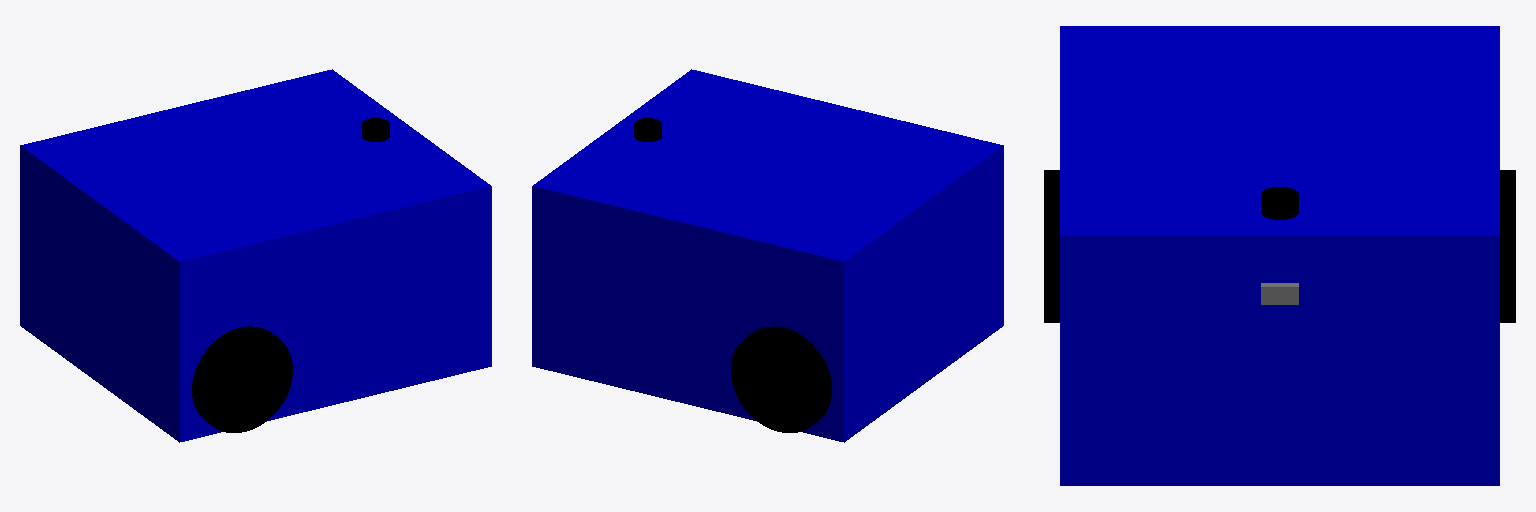
URDF robot description (ika):
<?xml version="1.0" ?>
<robot name="ika">

  <!-- Materials -->
  <material name="blue"><color rgba="0 0 0.8 1"/></material>
  <material name="black"><color rgba="0 0 0 1"/></material>
  <material name="grey"><color rgba="0.5 0.5 0.5 1"/></material>

  <link name="base_footprint"/>
  <joint name="base_joint" type="fixed">
    <parent link="base_footprint"/><child link="base_link"/>
    <origin xyz="0 0 0.36" rpy="0 0 0"/>
  </joint>

  <link name="base_link">
    <visual><geometry><box size="1.3 1.15 0.72"/></geometry><material name="blue"/></visual>
    <collision><geometry><box size="1.3 1.15 0.72"/></geometry></collision>
    <inertial><mass value="50.0"/><inertia ixx="10.0" ixy="0" ixz="0" iyy="10.0" iyz="0" izz="15.0"/></inertial>
  </link>

  <!-- Wheels -->
  <link name="rl_wheel">
    <visual><origin rpy="1.5707 0 0"/><geometry><cylinder radius="0.2" length="0.08"/></geometry><material name="black"/></visual>
    <collision><origin rpy="1.5707 0 0"/><geometry><cylinder radius="0.2" length="0.08"/></geometry></collision>
    <inertial><mass value="2.5"/><inertia ixx="0.03" ixy="0" ixz="0" iyy="0.03" iyz="0" izz="0.05"/></inertial>
  </link>
  <joint name="rl_wheel_joint" type="continuous">
    <parent link="base_link"/><child link="rl_wheel"/><origin xyz="-0.4 0.575 -0.16"/><axis xyz="0 1 0"/>
  </joint>

  <link name="rr_wheel">
    <visual><origin rpy="1.5707 0 0"/><geometry><cylinder radius="0.2" length="0.08"/></geometry><material name="black"/></visual>
    <collision><origin rpy="1.5707 0 0"/><geometry><cylinder radius="0.2" length="0.08"/></geometry></collision>
    <inertial><mass value="2.5"/><inertia ixx="0.03" ixy="0" ixz="0" iyy="0.03" iyz="0" izz="0.05"/></inertial>
  </link>
  <joint name="rr_wheel_joint" type="continuous">
    <parent link="base_link"/><child link="rr_wheel"/><origin xyz="-0.4 -0.575 -0.16"/><axis xyz="0 1 0"/>
  </joint>

  <!-- LiDAR & Camera links remain same -->
  <link name="lidar_link">
    <visual><geometry><cylinder radius="0.05" length="0.05"/></geometry><material name="black"/></visual>
  </link>
  <joint name="lidar_joint" type="fixed">
    <parent link="base_link"/><child link="lidar_link"/><origin xyz="0.5 0 0.385"/>
  </joint>

  <link name="camera_link">
    <visual><geometry><box size="0.05 0.1 0.05"/></geometry><material name="grey"/></visual>
  </link>
  <joint name="camera_joint" type="fixed">
    <parent link="base_link"/><child link="camera_link"/><origin xyz="0.65 0 0.2"/>
  </joint>

  <!-- Gazebo Sim (Ignition) Plugins -->
  <gazebo>
    <!-- Diff Drive -->
    <plugin filename="gz-sim-diff-drive-system" name="gz::sim::systems::DiffDrive">
      <left_joint>rl_wheel_joint</left_joint>
      <right_joint>rr_wheel_joint</right_joint>
      <wheel_separation>1.15</wheel_separation>
      <wheel_radius>0.2</wheel_radius>
      <odom_publish_frequency>30</odom_publish_frequency>
      <topic>cmd_vel</topic>
      <odom_topic>odom</odom_topic>
      <tf_topic>tf</tf_topic>
      <frame_id>odom</frame_id>
      <child_frame_id>base_footprint</child_frame_id>
    </plugin>

    <!-- Joint State Publisher for Wheels -->
    <plugin filename="gz-sim-joint-state-publisher-system" name="gz::sim::systems::JointStatePublisher">
      <topic>joint_states</topic>
    </plugin>

    <!-- Sensors System -->
    <plugin filename="gz-sim-sensors-system" name="gz::sim::systems::Sensors">
      <render_engine>ogre2</render_engine>
    </plugin>

    <!-- IMU -->
    <plugin filename="gz-sim-imu-system" name="gz::sim::systems::Imu">
    </plugin>
  </gazebo>

  <!-- Sensor Definitions -->
  <gazebo reference="lidar_link">
    <sensor type="gpu_lidar" name="lidar">
      <pose>0 0 0 0 0 0</pose>
      <visualize>true</visualize>
      <update_rate>10</update_rate>
      <ray>
        <scan><horizontal><samples>360</samples><resolution>1</resolution><min_angle>-3.14159</min_angle><max_angle>3.14159</max_angle></horizontal></scan>
        <range><min>0.3</min><max>30.0</max></range>
      </ray>
      <topic>scan</topic>
      <gz_frame_id>lidar_link</gz_frame_id>
    </sensor>
  </gazebo>

  <gazebo reference="camera_link">
    <sensor type="camera" name="camera">
      <update_rate>30.0</update_rate>
      <topic>camera/image_raw</topic>
      <camera name="head">
        <horizontal_fov>1.396</horizontal_fov>
        <image><width>640</width><height>480</height><format>R8G8B8</format></image>
        <clip><near>0.02</near><far>300</far></clip>
      </camera>
    </sensor>
  </gazebo>

  <gazebo reference="base_link">
    <sensor name="imu_sensor" type="imu">
      <always_on>1</always_on>
      <update_rate>30</update_rate>
      <visualize>true</visualize>
      <topic>imu/data</topic>
    </sensor>
  </gazebo>

</robot>

--- Facts derived from the render (not from the file) ---
The picture shows the robot from 3 angles, left to right: view 1: azimuth 30°, elevation 25°; view 2: azimuth 150°, elevation 25°; view 3: azimuth 270°, elevation 25°; orthographic projection.
Robot: ika — 6 links, 5 joints (2 continuous, 3 fixed); root link base_footprint; default pose: all joints at 0.
Links seen in each view (by area): view 1: base_link, rr_wheel, lidar_link; view 2: base_link, rl_wheel, lidar_link; view 3: base_link, rl_wheel, rr_wheel, lidar_link, camera_link.
Link boxes in pixels (<box>): base_link: <box>20,69,491,442</box>; rr_wheel: <box>192,326,292,432</box>; lidar_link: <box>362,118,389,141</box>; base_link: <box>532,69,1003,442</box>; rl_wheel: <box>731,326,831,432</box>; lidar_link: <box>634,118,661,141</box>; base_link: <box>1060,26,1499,485</box>; rl_wheel: <box>1500,170,1515,322</box>; rr_wheel: <box>1044,170,1059,322</box>; lidar_link: <box>1261,187,1298,219</box>; camera_link: <box>1261,283,1298,304</box>.
Bounding box of the posed robot: 1.32 × 1.23 × 0.77 m (x, y, z).
Geometry: primitives only (box / cylinder / sphere), no mesh files.
